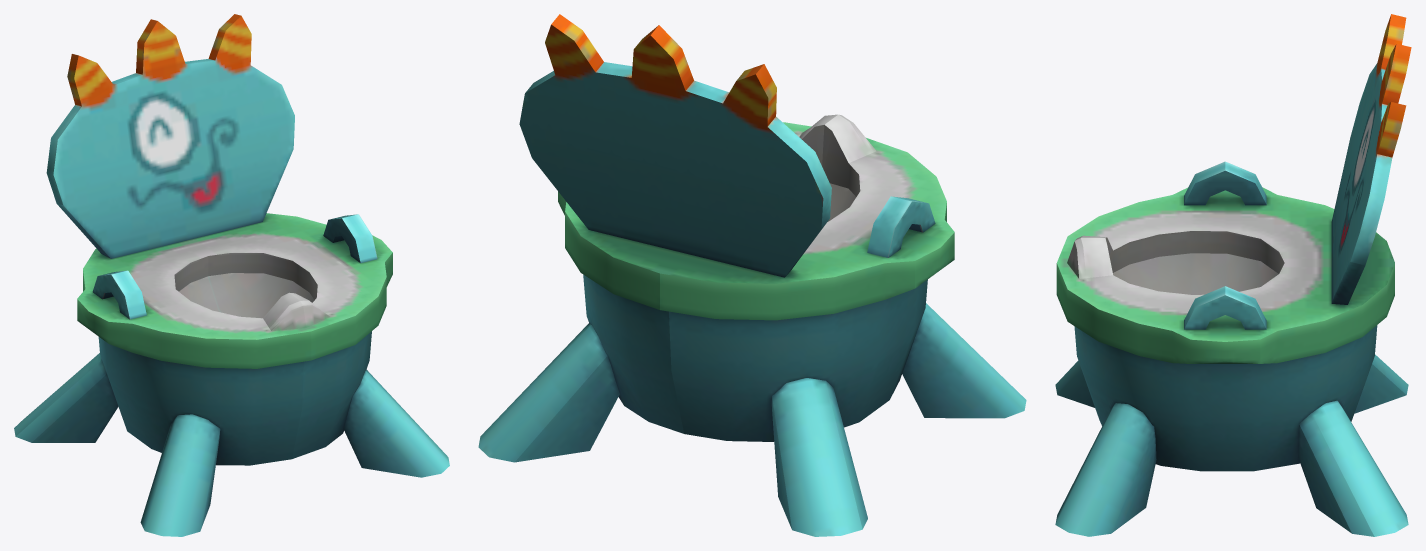
File: orinal.fbx
The picture shows the model from 3 angles, left to right: view 1: azimuth 30°, elevation 25°; view 2: azimuth 150°, elevation 25°; view 3: azimuth 270°, elevation 25°; orthographic projection. The views are drawn at different scales.
Visible parts, largest first — view 1: orinal; view 2: orinal; view 3: orinal.
Part boxes in pixels (box(x1,y1,x2,y2)): orinal: box(14, 14, 449, 536); orinal: box(478, 14, 1026, 536); orinal: box(1055, 14, 1411, 536).
Size of the model in its own units: 32.43 by 37.87 by 29.73.
Materials: 1 (1 with a texture image).
